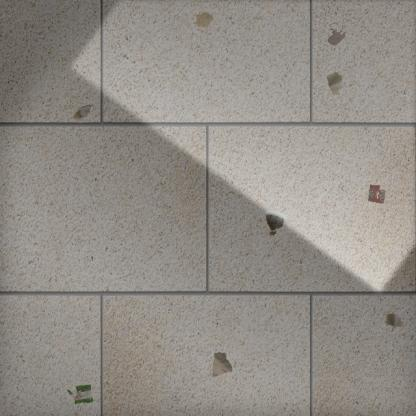dirty: (210, 350, 235, 380), (65, 382, 95, 406), (264, 208, 289, 236), (325, 69, 347, 97), (365, 183, 388, 206), (71, 104, 96, 125), (383, 308, 407, 329)
liquid: (192, 11, 214, 34), (326, 27, 348, 46)
